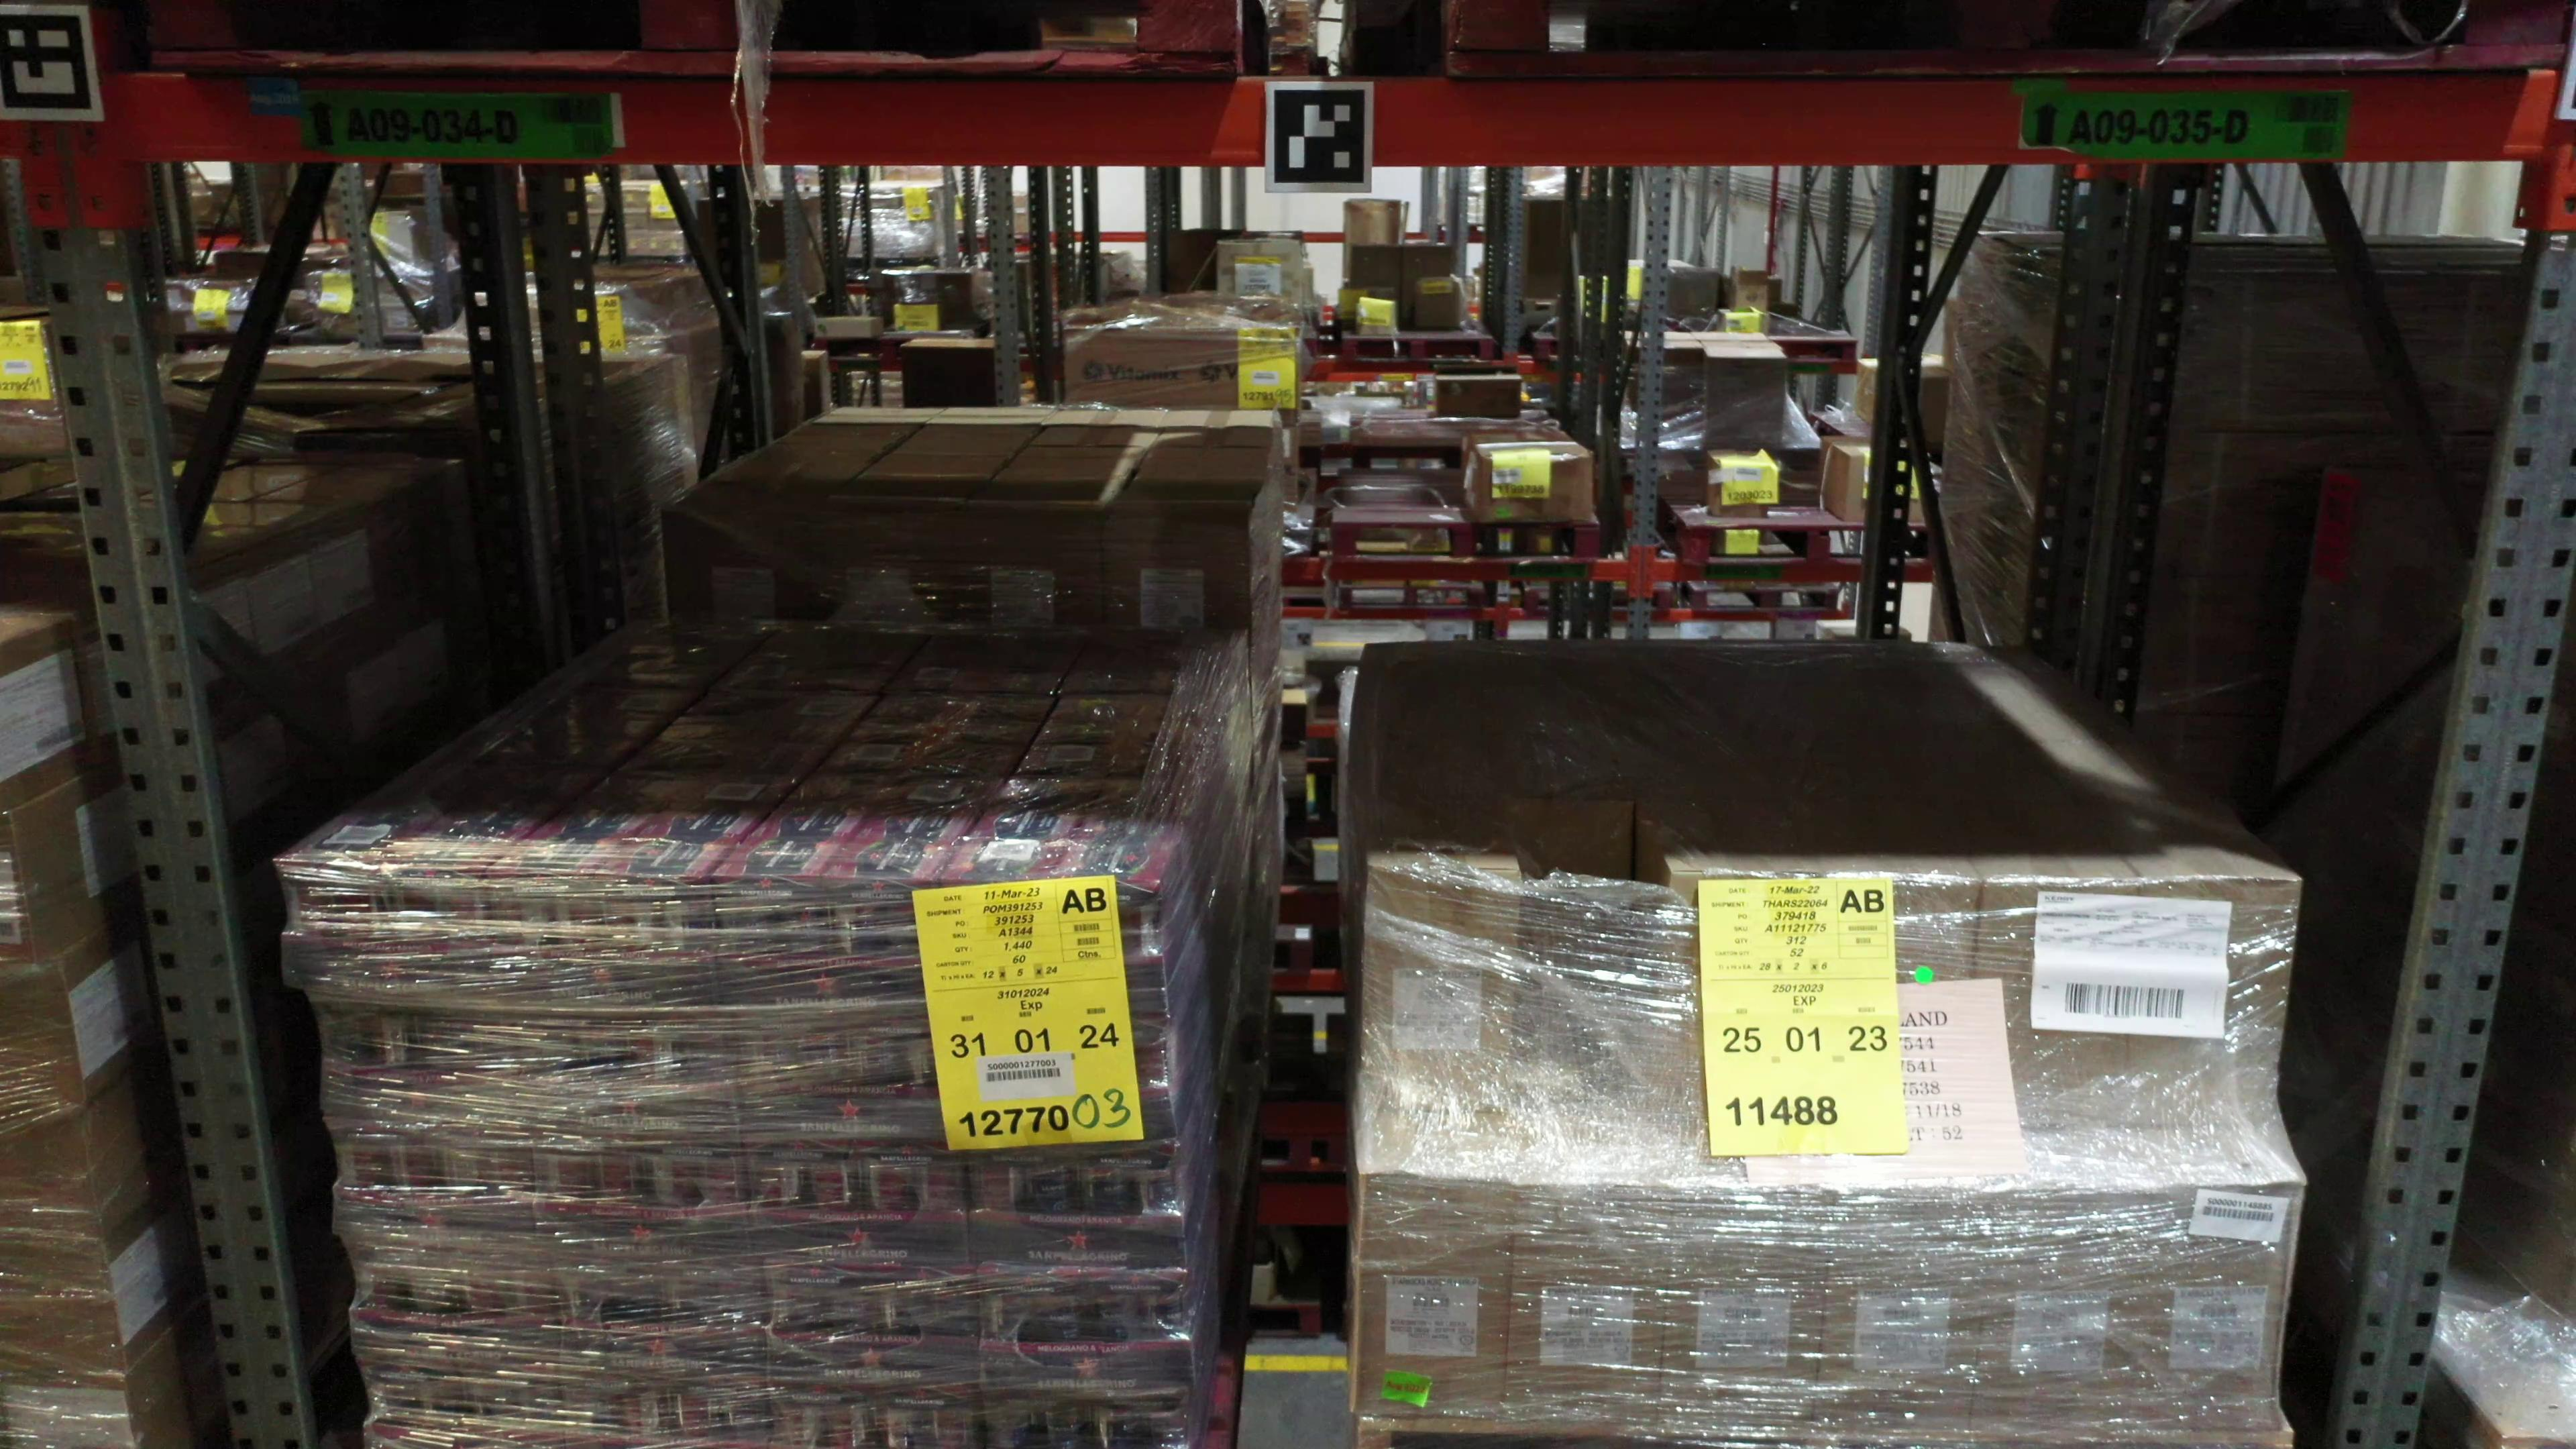-: (2116, 881, 2305, 1129), (1663, 867, 1831, 1136), (1355, 870, 1520, 1143), (1806, 1196, 1994, 1431), (1966, 886, 2141, 1136), (1966, 1189, 2144, 1431), (1821, 881, 1985, 1141), (2134, 1185, 2302, 1431), (1350, 1175, 1516, 1421), (1661, 1189, 1831, 1430), (1502, 1184, 1670, 1421), (711, 879, 955, 1028), (938, 881, 1169, 1035), (487, 869, 722, 1016), (281, 856, 499, 1001), (745, 1143, 975, 1279), (311, 993, 533, 1132), (736, 1016, 966, 1148), (515, 1008, 745, 1139), (533, 1132, 755, 1267), (1507, 800, 1633, 1028), (968, 1146, 1185, 1277), (349, 1238, 557, 1375), (552, 1253, 768, 1384), (764, 1267, 982, 1394), (331, 1120, 540, 1251), (957, 1026, 1177, 1150), (977, 1276, 1191, 1399), (357, 1357, 566, 1449), (0, 1253, 126, 1382), (563, 1373, 773, 1449), (0, 1111, 108, 1254), (770, 1384, 985, 1449), (984, 1392, 1187, 1449), (0, 961, 74, 1113), (0, 1371, 142, 1449)
box: (805, 513, 955, 626), (663, 511, 810, 626), (955, 518, 1104, 630), (1102, 522, 1251, 630)
